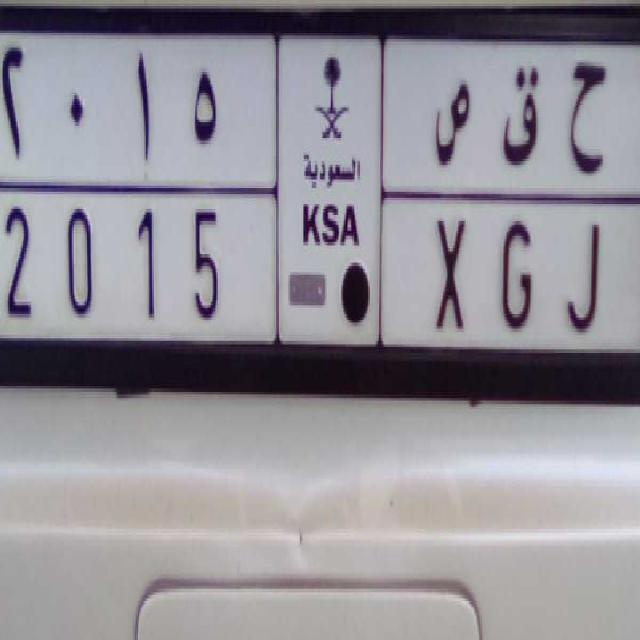license_plate: (0, 173, 631, 375)
